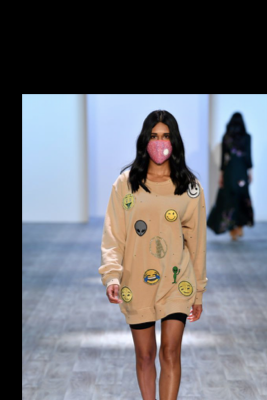with_mask: (145, 130, 173, 165)
